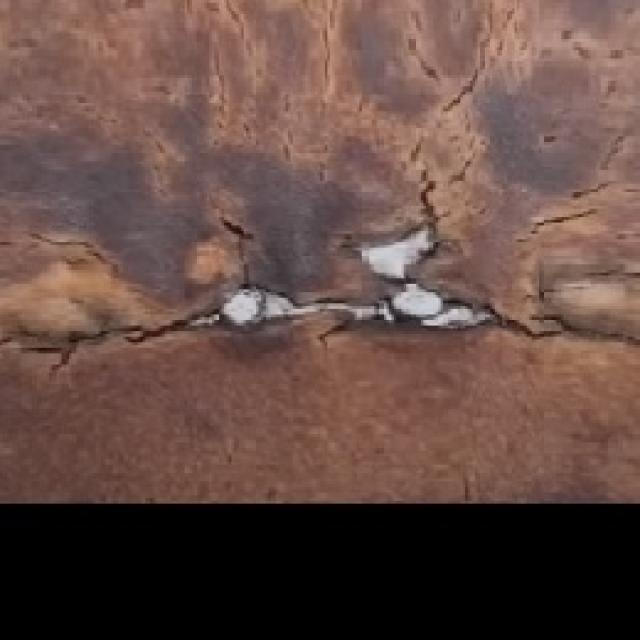crack: (63, 299, 186, 366), (511, 296, 607, 371), (228, 202, 292, 288), (412, 168, 469, 238)
